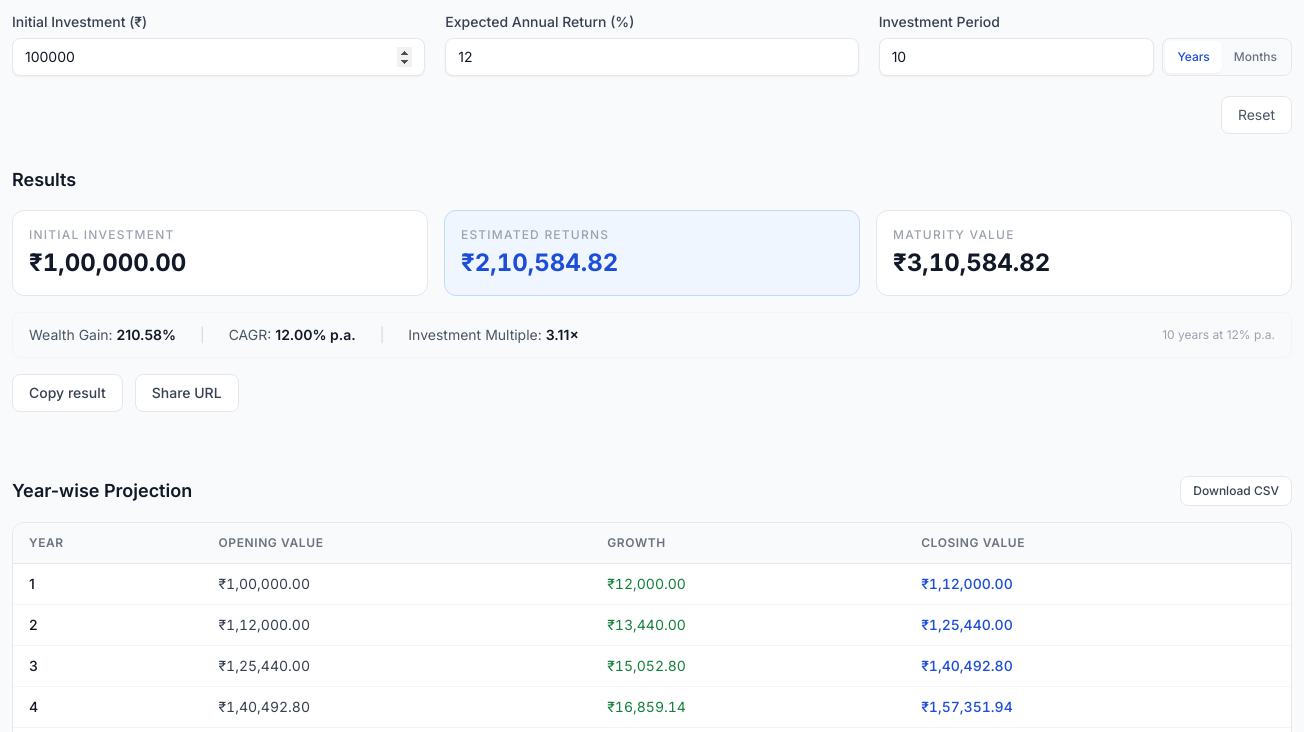
Test: LumpsumCalculator › shows error when return is below −100%
Replace the text in the number field labelled "Expected Annual Return (%)" with "-150" at point(652, 57), box [445,38,859,76]
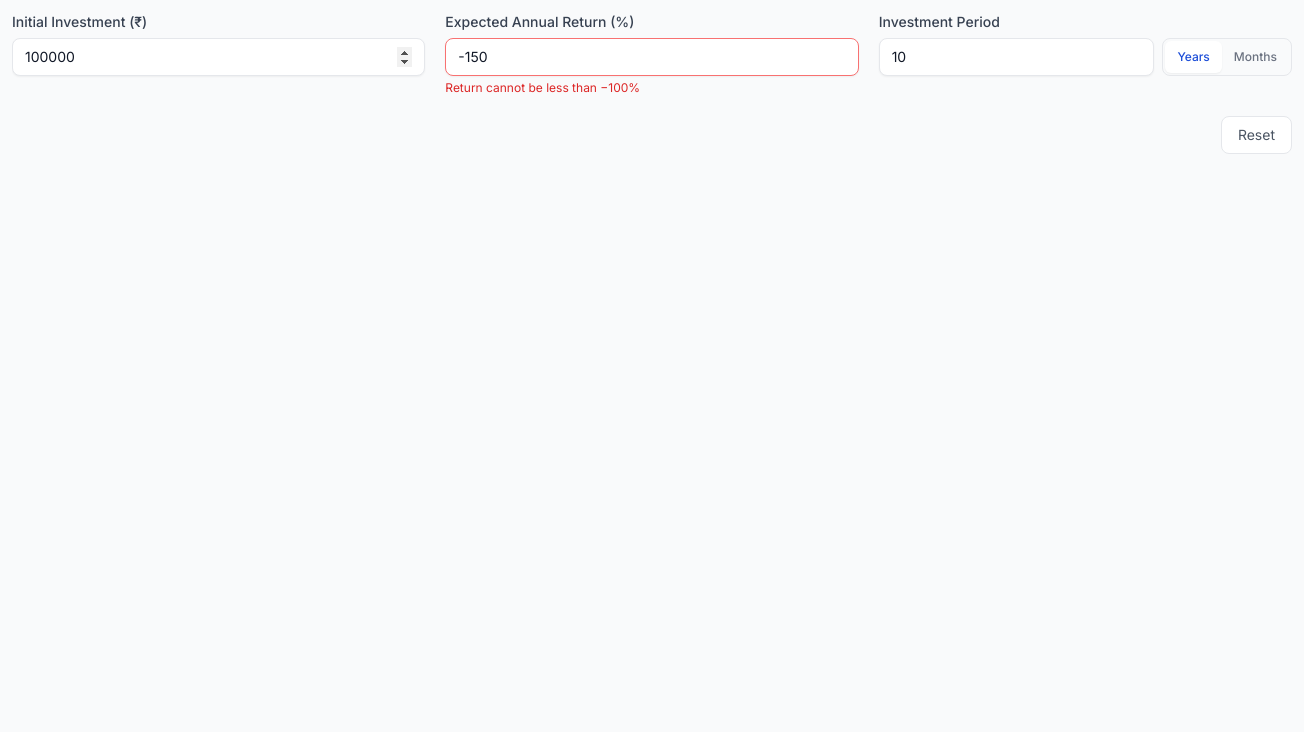
Check: the text "Return cannot be less than −100%" is shown, box [445,80,640,95]
